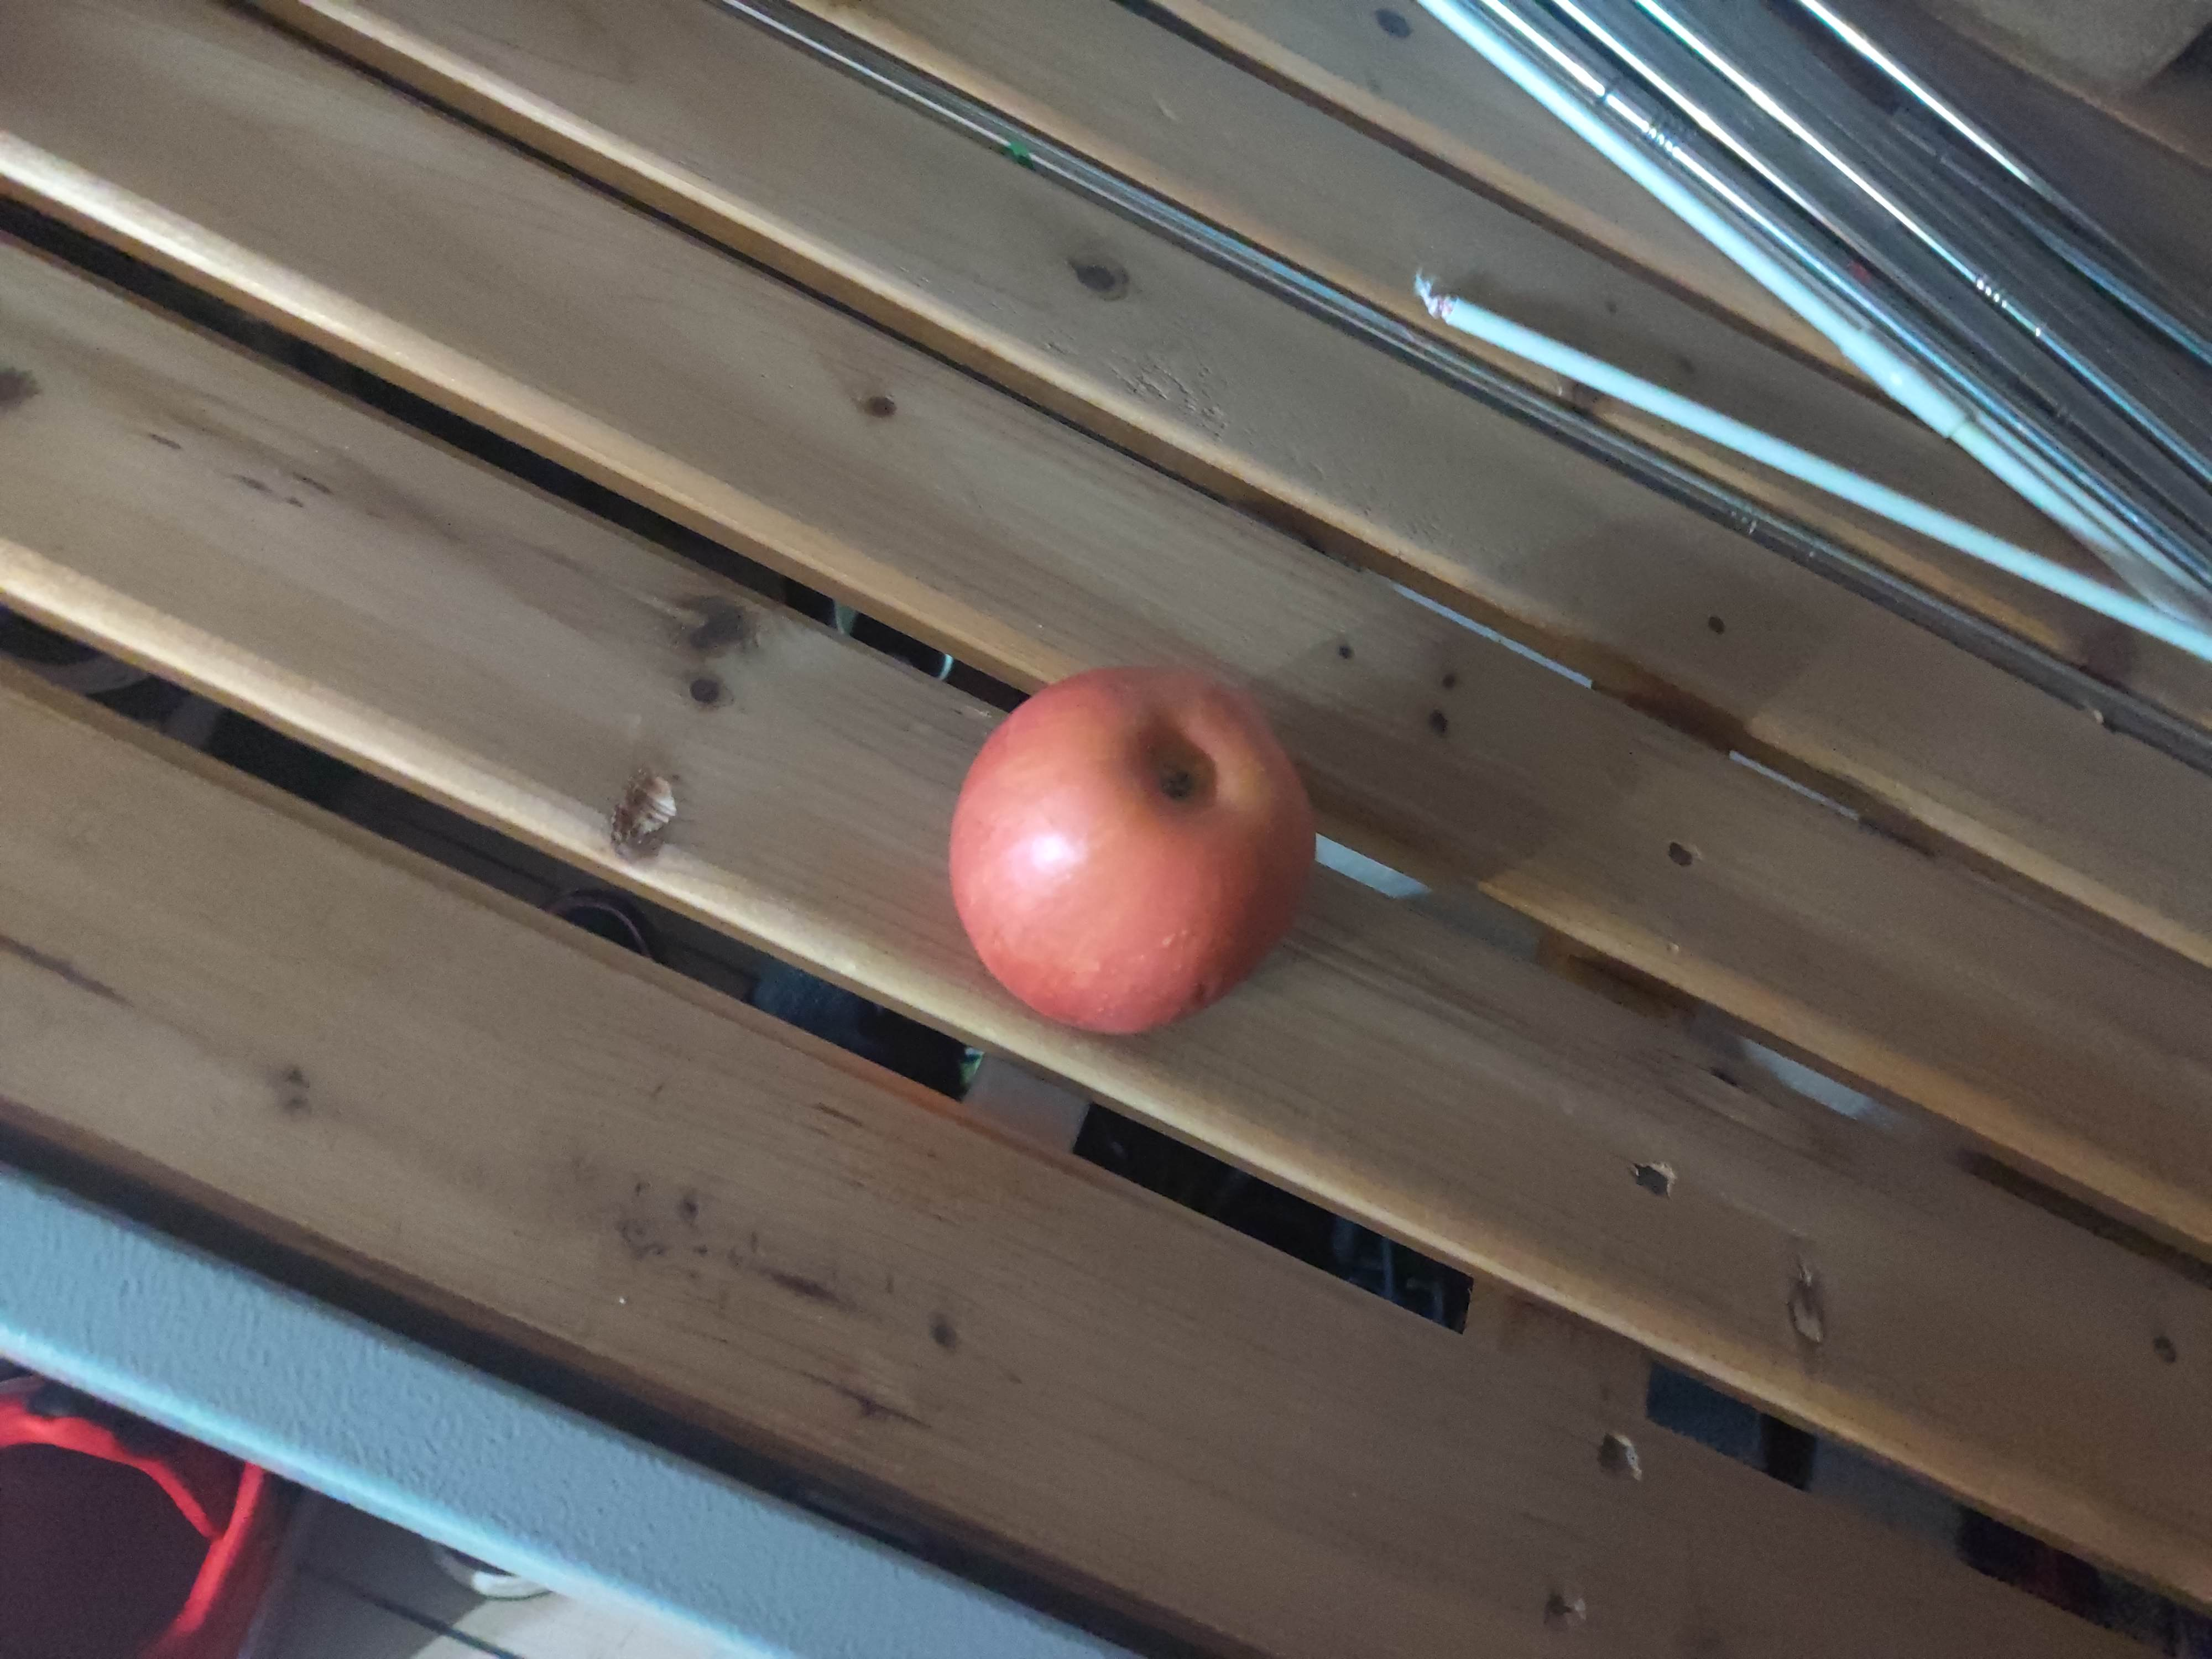apple: (951, 660, 1317, 1033)
